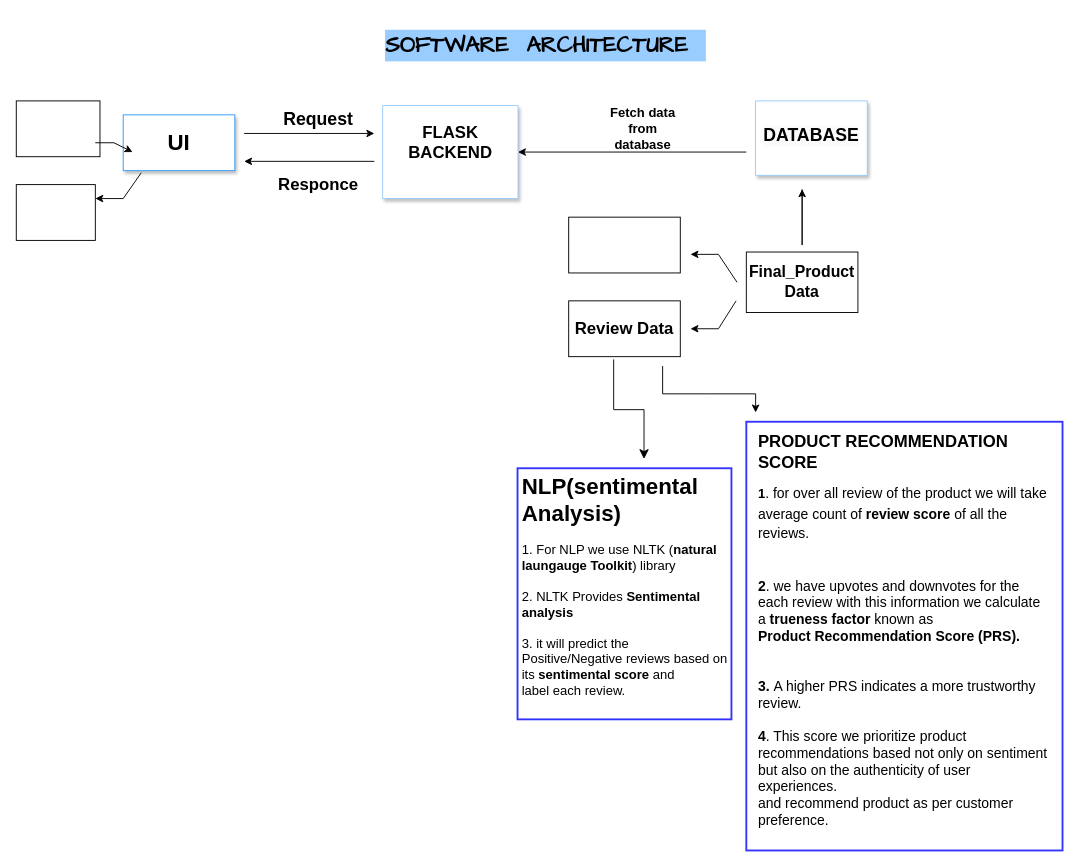
This 1080x867 diagram has some shape labels left out. The shapes that lost their labels are listed below. From the top down, each one's centre as x and y in pixels, then its label:
At pixel 57 128: "USER INPUT".
At pixel 55 212: "DESIRED OUTPUT".
At pixel 624 244: "Product data".
